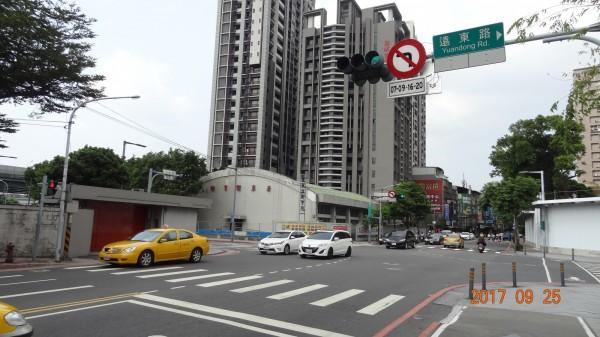green_traffic_light: (335, 49, 381, 71)
no_left_turn: (386, 38, 425, 77)
